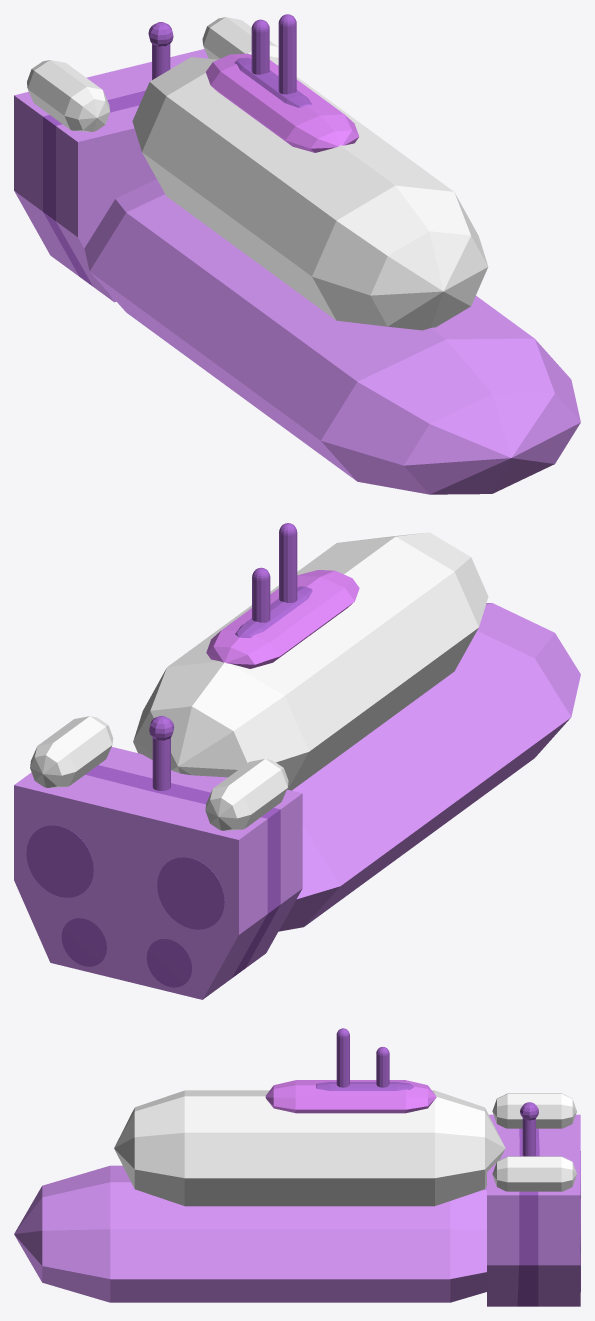
File: spaceship.fbx
The picture shows the model from 3 angles, top to bottom: view 1: azimuth 30°, elevation 25°; view 2: azimuth 150°, elevation 25°; view 3: azimuth 270°, elevation 25°; orthographic projection. The views are drawn at different scales.
Parts seen in each view (by area): view 1: Sphere.001, Cube.001, Sphere.004, Sphere.003, Sphere.007, Sphere.006, Cylinder.006; view 2: Sphere.001, Cube.001, Sphere.003, Sphere.004, Cylinder.001, Cylinder, Cylinder.002, Cylinder.003, Sphere.007, Sphere.006, Cylinder.006, Cylinder.004; view 3: Sphere.001, Cube.001, Sphere.003, Sphere.004, Sphere.007, Sphere.006, Cylinder.006, Cylinder.004.
Part boxes in pixels (x1=…): Sphere.001: x1=84, y1=53, x2=580, y2=494; Cube.001: x1=14, y1=49, x2=208, y2=302; Sphere.004: x1=27, y1=60, x2=109, y2=131; Sphere.003: x1=202, y1=17, x2=278, y2=65; Sphere.007: x1=278, y1=14, x2=296, y2=94; Sphere.006: x1=234, y1=57, x2=311, y2=107; Cylinder.006: x1=251, y1=19, x2=269, y2=74; Sphere.001: x1=133, y1=532, x2=580, y2=931; Cube.001: x1=14, y1=747, x2=302, y2=999; Sphere.003: x1=30, y1=716, x2=113, y2=787; Sphere.004: x1=205, y1=759, x2=288, y2=830; Cylinder.001: x1=157, y1=857, x2=224, y2=929; Cylinder: x1=26, y1=825, x2=93, y2=897; Cylinder.002: x1=61, y1=918, x2=106, y2=966; Cylinder.003: x1=146, y1=939, x2=191, y2=987; Sphere.007: x1=279, y1=523, x2=297, y2=602; Sphere.006: x1=235, y1=586, x2=312, y2=637; Cylinder.006: x1=252, y1=567, x2=270, y2=622; Cylinder.004: x1=152, y1=737, x2=170, y2=790; Sphere.001: x1=14, y1=1080, x2=505, y2=1302; Cube.001: x1=487, y1=1114, x2=580, y2=1306; Sphere.003: x1=492, y1=1156, x2=576, y2=1191; Sphere.004: x1=492, y1=1093, x2=576, y2=1128; Sphere.007: x1=336, y1=1028, x2=349, y2=1087; Sphere.006: x1=316, y1=1082, x2=413, y2=1090; Cylinder.006: x1=376, y1=1047, x2=389, y2=1087; Cylinder.004: x1=522, y1=1118, x2=535, y2=1156.
Size of the model in its own units: 223 by 297 by 593.
